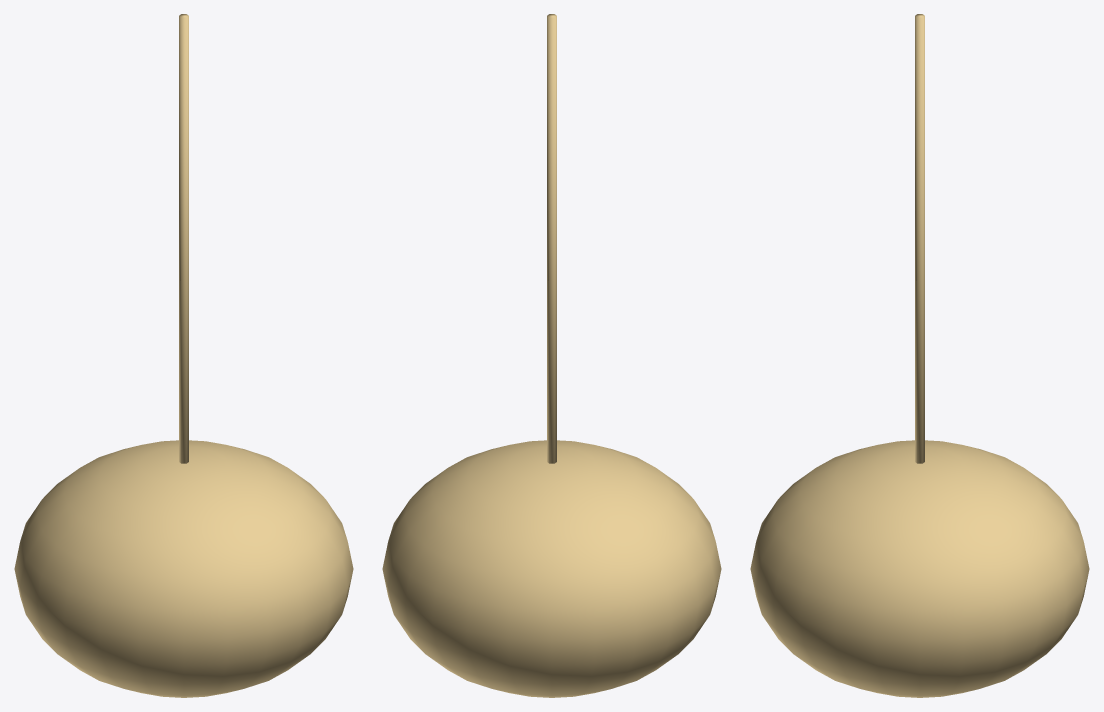
Rendered from pendant.glb.
3 renders of one model, left to right at view 1: azimuth 30°, elevation 25°; view 2: azimuth 150°, elevation 25°; view 3: azimuth 270°, elevation 25°, orthographic.
Parts seen in each view (by area): view 1: pendant; view 2: pendant; view 3: pendant.
Part boxes in pixels (<box>): pendant: <box>14,14,353,697</box>; pendant: <box>382,14,721,697</box>; pendant: <box>750,14,1089,697</box>.
Bounding box in the file's own units: 0.4 × 0.86 × 0.4.
